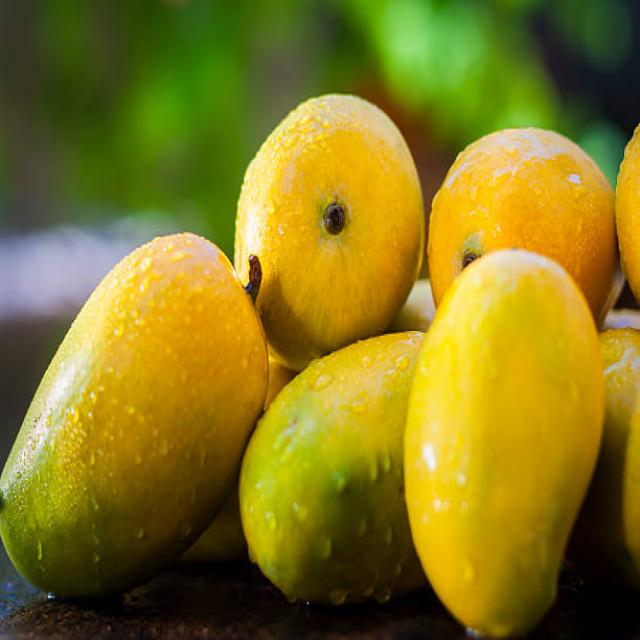mango: (0, 232, 268, 597), (404, 249, 604, 638), (235, 94, 424, 368), (240, 334, 425, 603), (428, 128, 618, 323)
